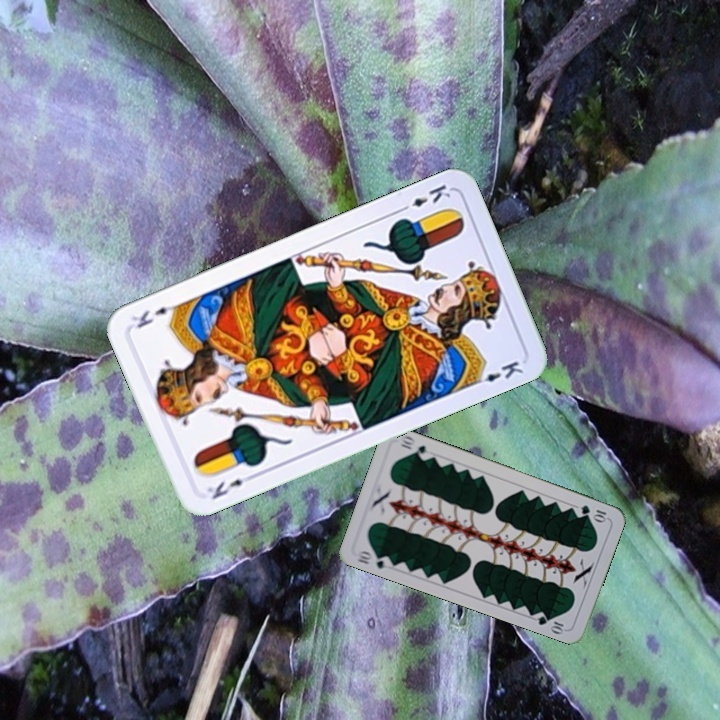EK: (395, 180, 453, 215), (202, 470, 257, 502)
G10: (353, 546, 394, 571), (577, 501, 610, 524)
